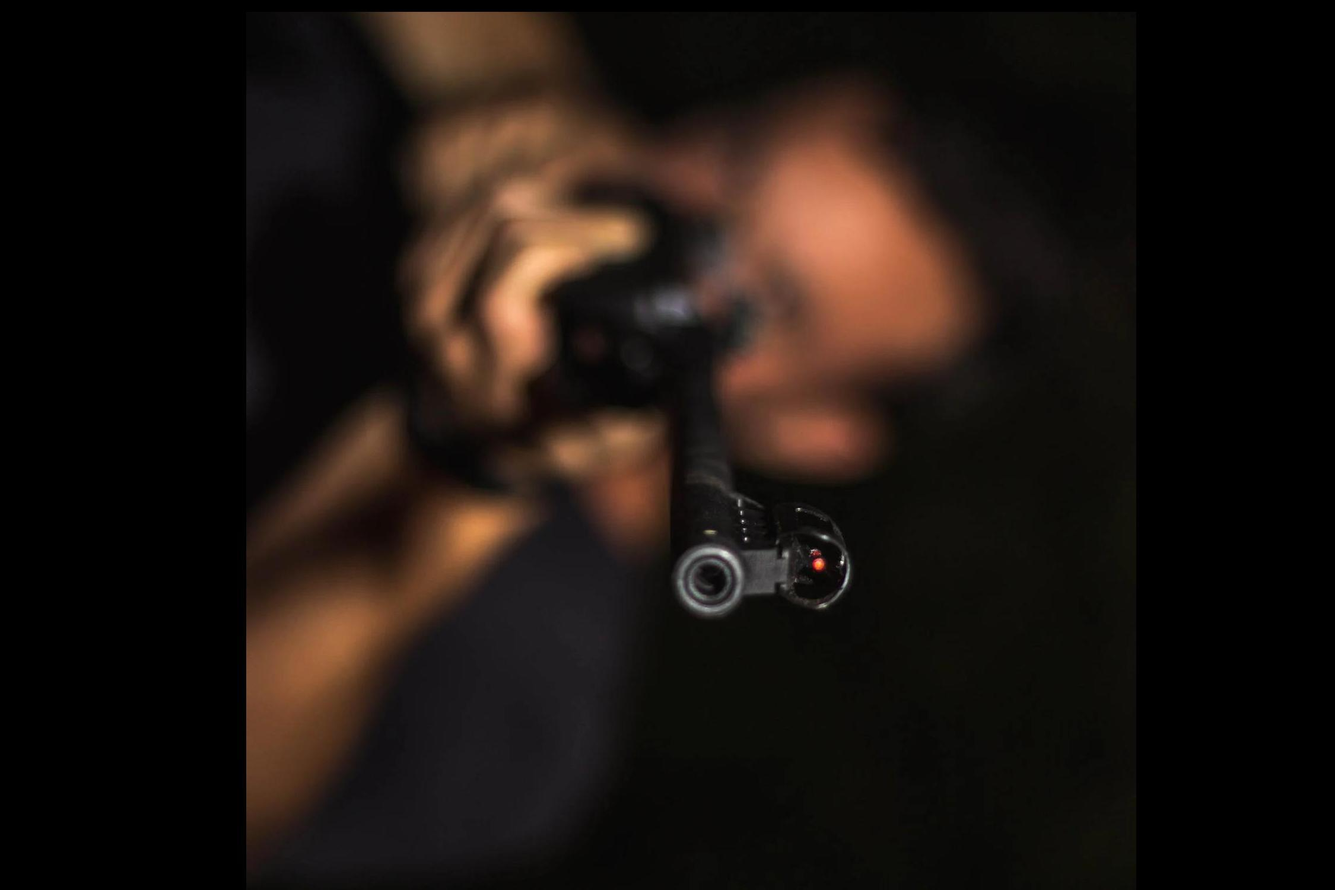larga: (543, 173, 859, 627)
